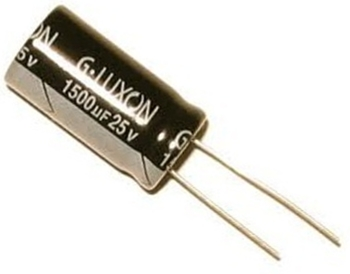capacitor: (3, 4, 227, 223)
